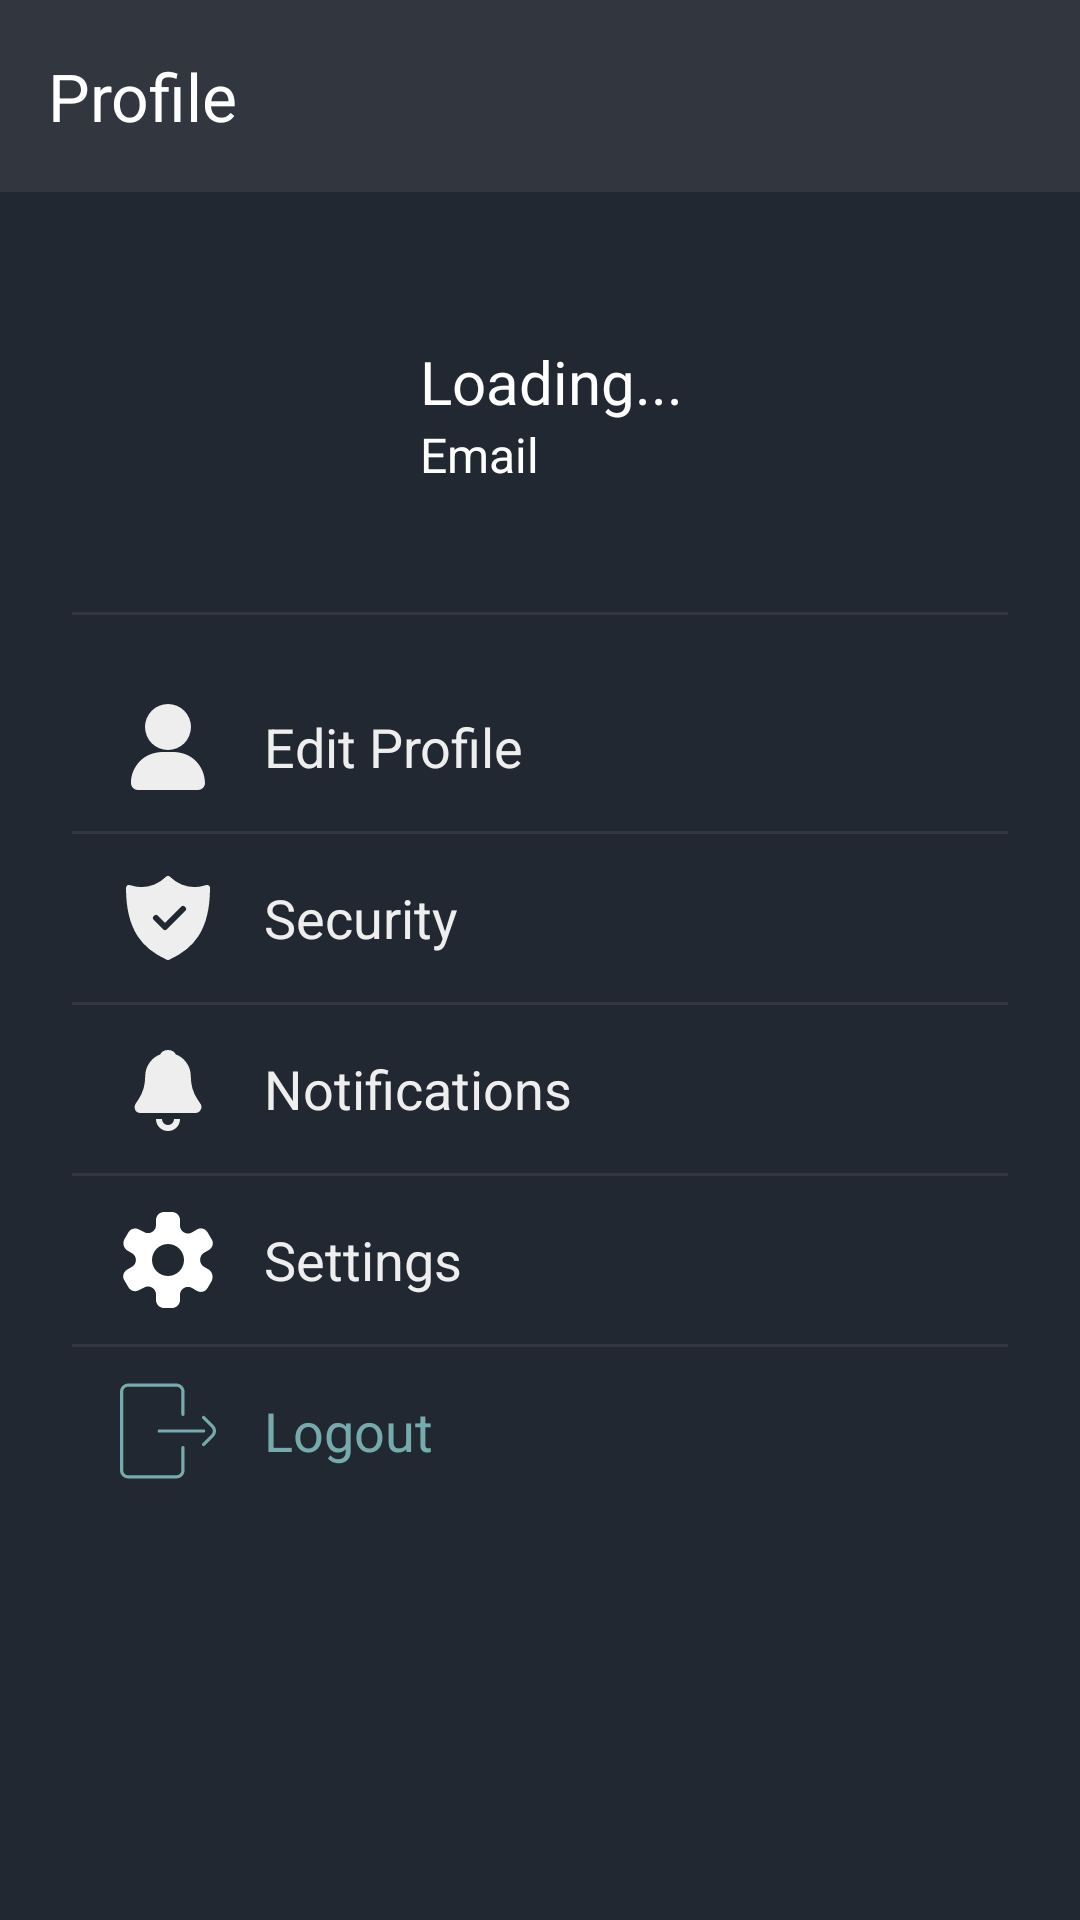

Screen size 1080w x 1920h. Icon name, then its box in pixels as (x1, y1, x2, y2):
signout: (120, 1383, 216, 1479)
user: (131, 704, 205, 790)
